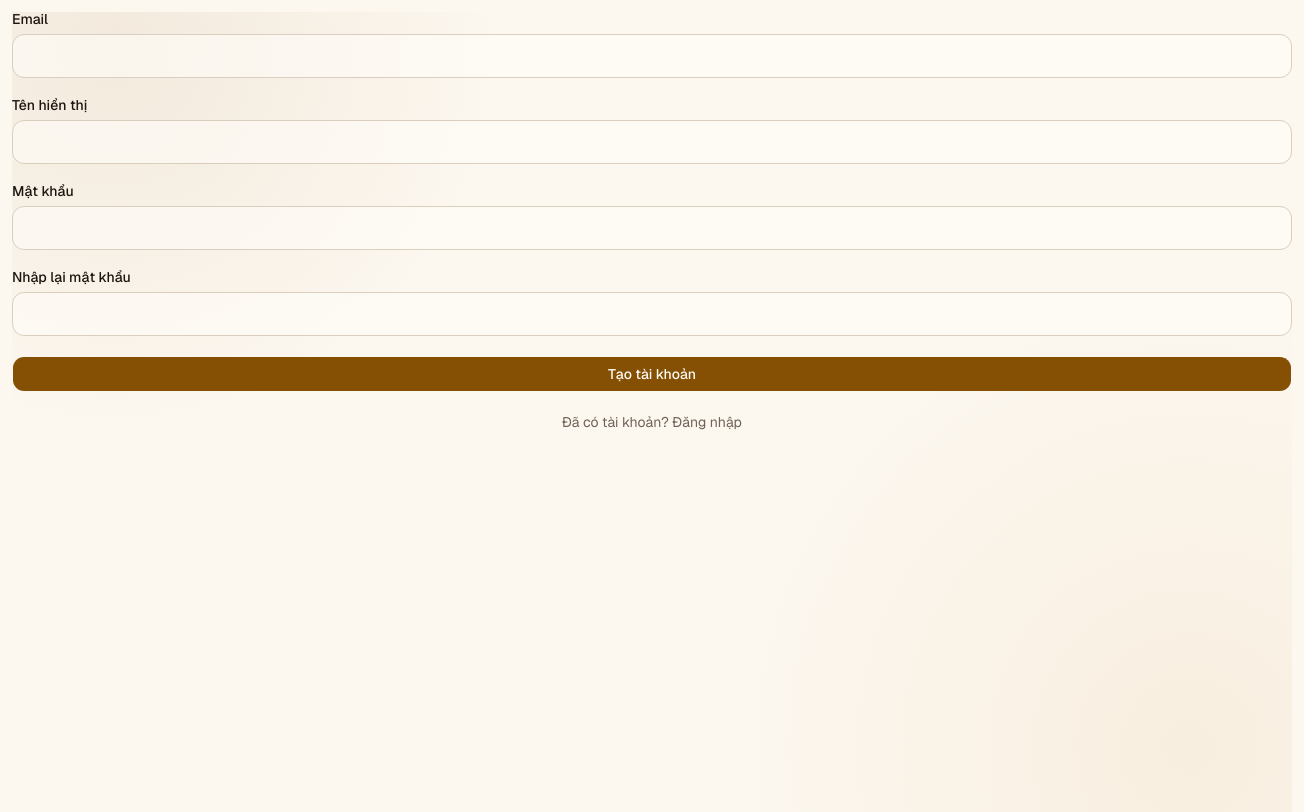
it: RegisterForm › shows the form-level error and preserves entered values
Step 1. Click the button "Tạo tài khoản" → (652, 374), box [12, 356, 1292, 392]
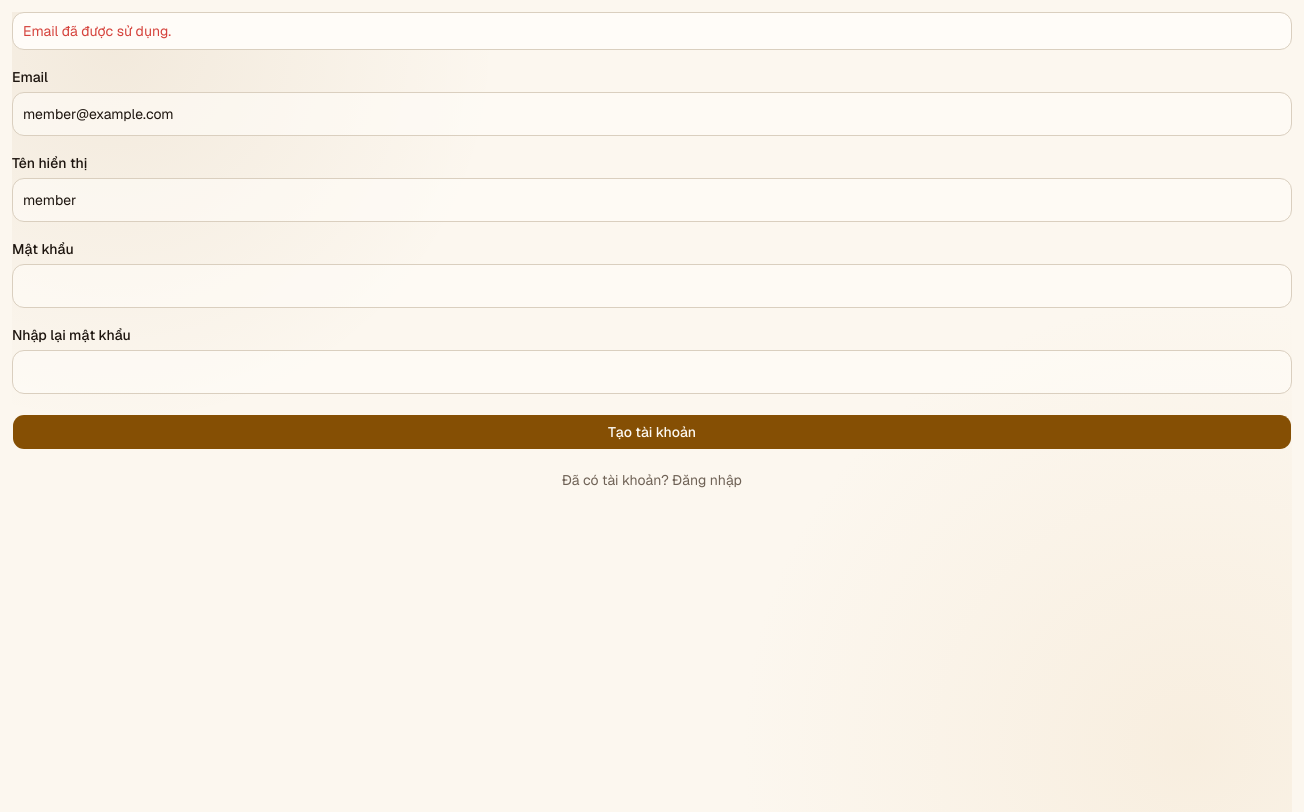
Expected: the text "Email đã được sử dụng." is shown, [23, 22, 171, 40]
Expected: the field labelled "Email" holds "member@example.com", [12, 92, 1292, 136]
Expected: the field labelled "Tên hiển thị" holds "member", [12, 178, 1292, 222]
